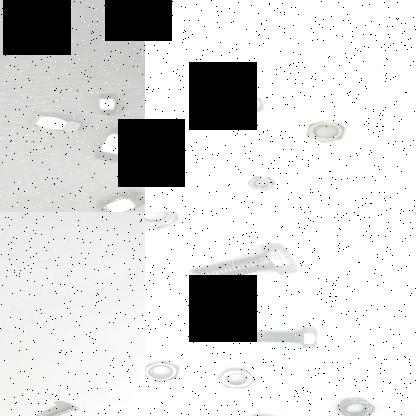Bolts: (181, 235, 305, 292), (242, 316, 329, 350), (28, 399, 83, 416)
NUTS: (88, 124, 142, 161), (18, 112, 86, 133), (214, 364, 265, 392), (333, 390, 386, 416), (302, 116, 349, 144), (145, 354, 184, 384), (95, 192, 145, 212), (225, 92, 265, 116), (91, 90, 125, 118), (145, 212, 185, 233), (247, 172, 278, 192), (234, 407, 294, 416)
